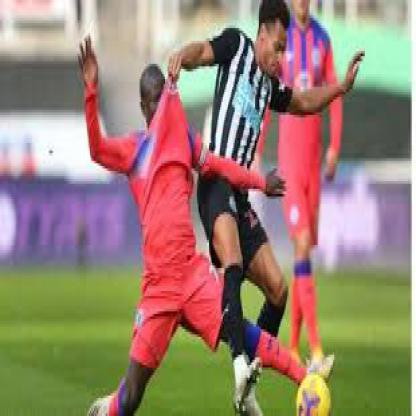Fall_Down: (80, 34, 335, 414)
